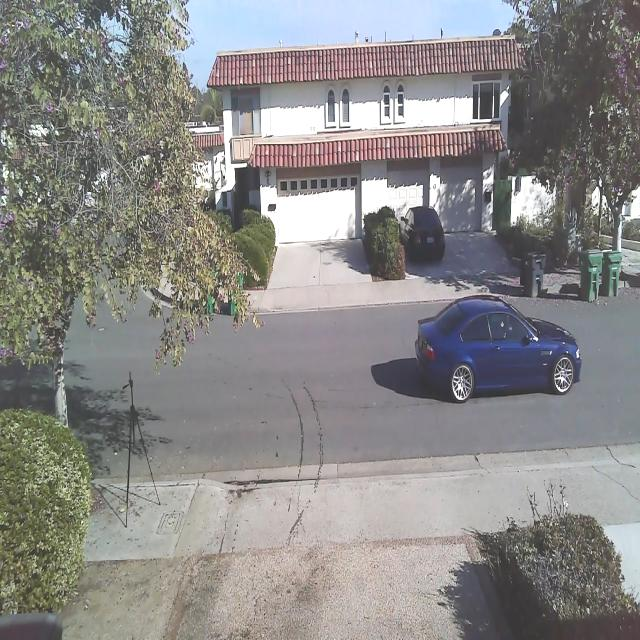Carbeetle: (410, 289, 585, 410)
Civilian: (397, 206, 445, 264)
